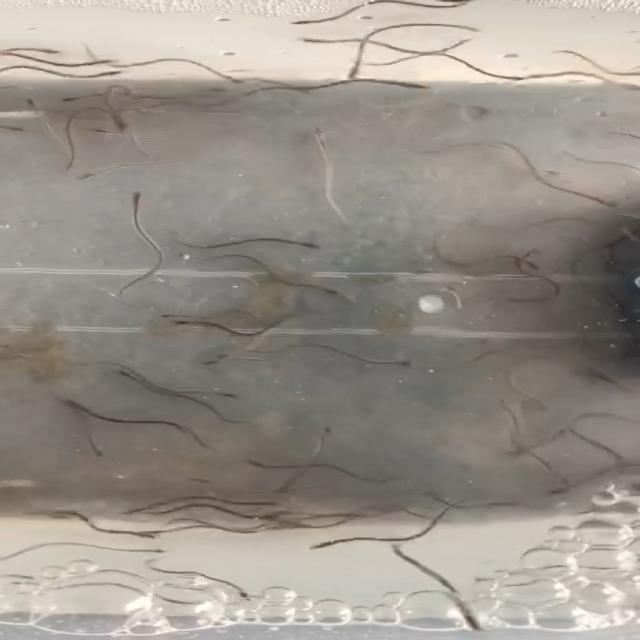active_glass_eel: (399, 77, 453, 104), (442, 600, 498, 625), (178, 346, 247, 366), (162, 310, 216, 334), (296, 542, 373, 558), (4, 120, 50, 146), (216, 384, 266, 406), (512, 251, 556, 275), (62, 394, 104, 418), (220, 68, 260, 92), (228, 452, 282, 469), (145, 545, 195, 563), (312, 118, 351, 140), (514, 291, 548, 315), (130, 522, 167, 544), (118, 188, 153, 211), (8, 94, 46, 114), (286, 235, 328, 253), (81, 174, 120, 193), (49, 89, 90, 107), (592, 448, 624, 468), (590, 190, 621, 210), (600, 82, 630, 100), (554, 479, 577, 502), (318, 276, 339, 299), (284, 16, 323, 28), (387, 350, 411, 368), (91, 51, 115, 66), (237, 590, 258, 604), (305, 36, 320, 53), (40, 46, 57, 58), (101, 70, 128, 77), (110, 496, 112, 496)
